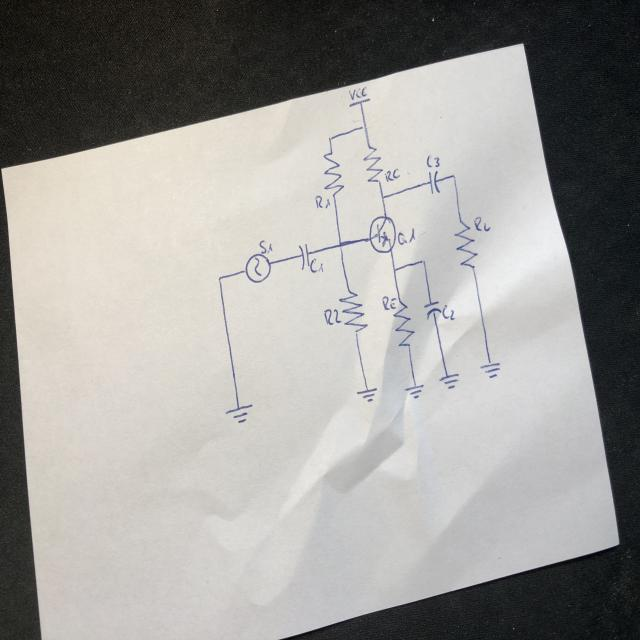capacitor: (423, 299, 442, 320), (297, 243, 311, 270), (427, 170, 440, 196)
ground: (224, 402, 257, 424), (478, 360, 504, 380), (439, 372, 460, 391), (356, 386, 378, 404), (403, 383, 425, 400)
junction: (359, 121, 369, 133), (336, 240, 344, 252), (419, 256, 427, 268), (449, 170, 457, 182), (326, 134, 334, 146), (216, 274, 224, 285), (379, 192, 387, 203), (391, 266, 399, 276)
resistor: (338, 286, 368, 334), (453, 217, 478, 270), (393, 298, 415, 349), (322, 150, 345, 198), (362, 143, 385, 184)
source: (244, 252, 272, 285), (348, 97, 372, 111)
text: (323, 306, 341, 326), (346, 86, 368, 102), (398, 226, 415, 245), (382, 166, 402, 182), (314, 193, 332, 210), (474, 215, 491, 233), (310, 257, 326, 275), (381, 295, 397, 312), (425, 154, 441, 169), (441, 304, 456, 320), (259, 239, 273, 255)
transistor: (368, 215, 398, 254)
